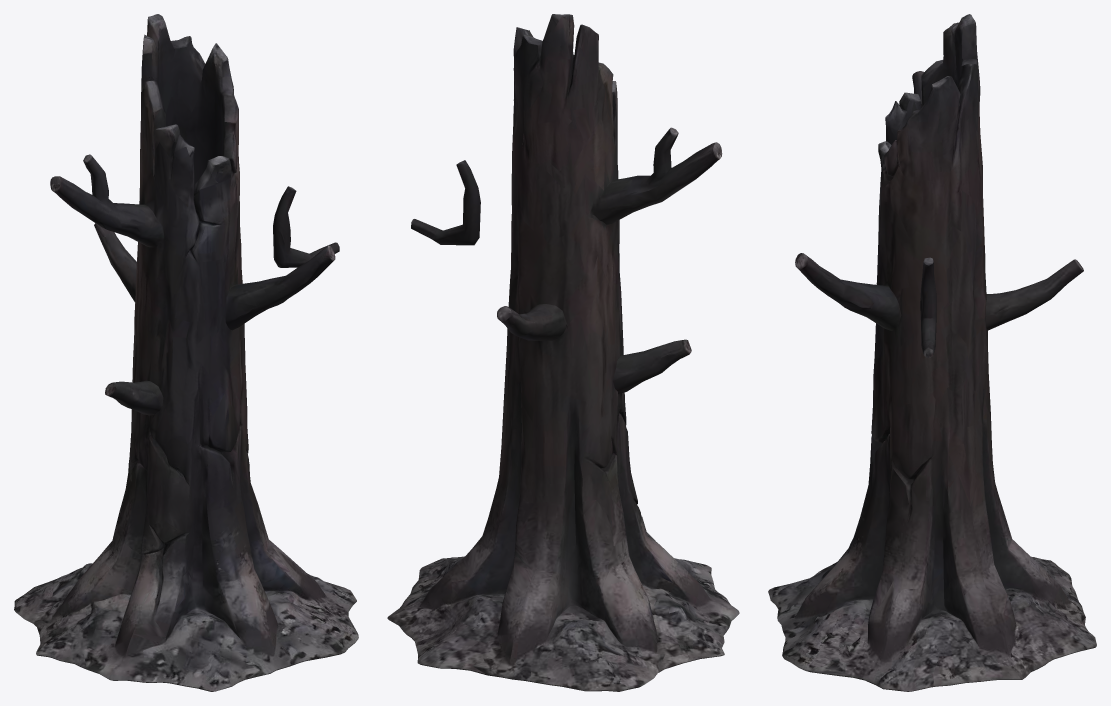
Rendered from tree_dead_stump_idle.glb.
The picture shows the model from 3 angles, left to right: view 1: azimuth 30°, elevation 25°; view 2: azimuth 150°, elevation 25°; view 3: azimuth 270°, elevation 25°; orthographic projection. The views are drawn at different scales.
Visible parts, largest first — view 1: tripo_node_b77ad315-ef5b-43da-a7da-c37bd55ad534; view 2: tripo_node_b77ad315-ef5b-43da-a7da-c37bd55ad534; view 3: tripo_node_b77ad315-ef5b-43da-a7da-c37bd55ad534.
Part boxes in pixels (<box>): tripo_node_b77ad315-ef5b-43da-a7da-c37bd55ad534: <box>14,14,358,691</box>; tripo_node_b77ad315-ef5b-43da-a7da-c37bd55ad534: <box>387,14,739,691</box>; tripo_node_b77ad315-ef5b-43da-a7da-c37bd55ad534: <box>768,14,1096,691</box>.
Size of the model in its own units: 1.86 by 3.5 by 1.76.
Materials: 1 (1 with a texture image).
